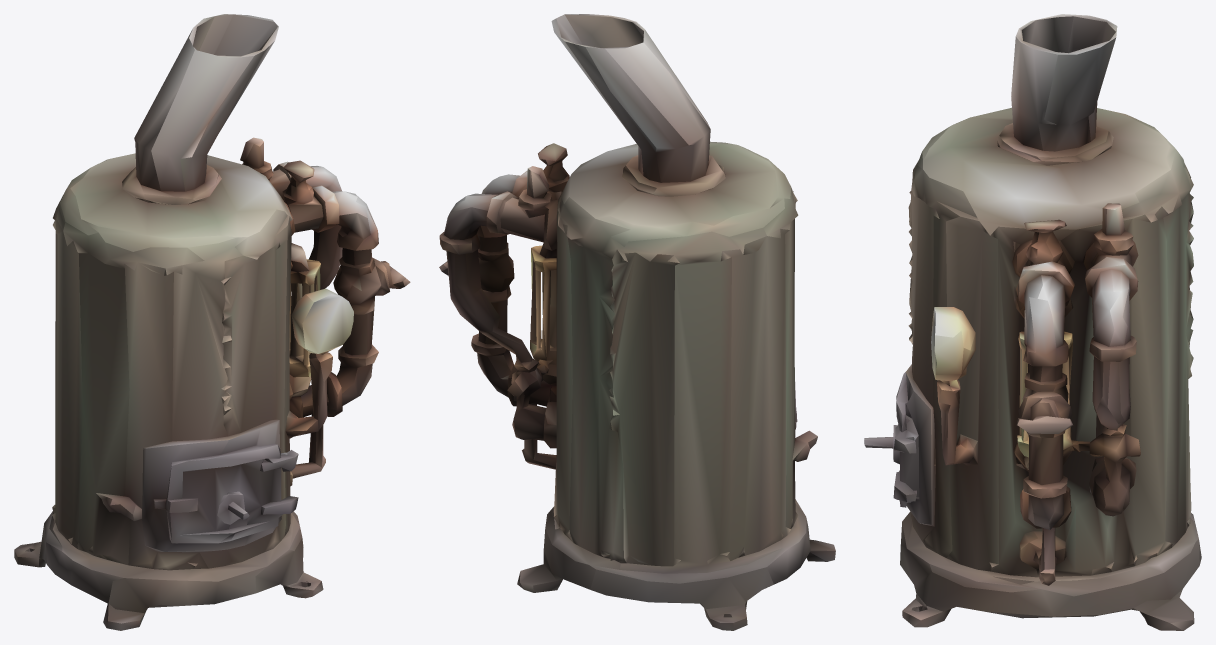
The model's file is boiler.glb.
The picture shows the model from 3 angles, left to right: view 1: azimuth 30°, elevation 25°; view 2: azimuth 150°, elevation 25°; view 3: azimuth 270°, elevation 25°; orthographic projection. The views are drawn at different scales.
Visible parts, largest first — view 1: world; view 2: world; view 3: world.
Part boxes in pixels (x1=…): world: x1=14, y1=14, x2=410, y2=630; world: x1=439, y1=14, x2=835, y2=630; world: x1=864, y1=14, x2=1201, y2=630.
Bounding box in the file's own units: 2.6 × 3.8 × 1.98.
